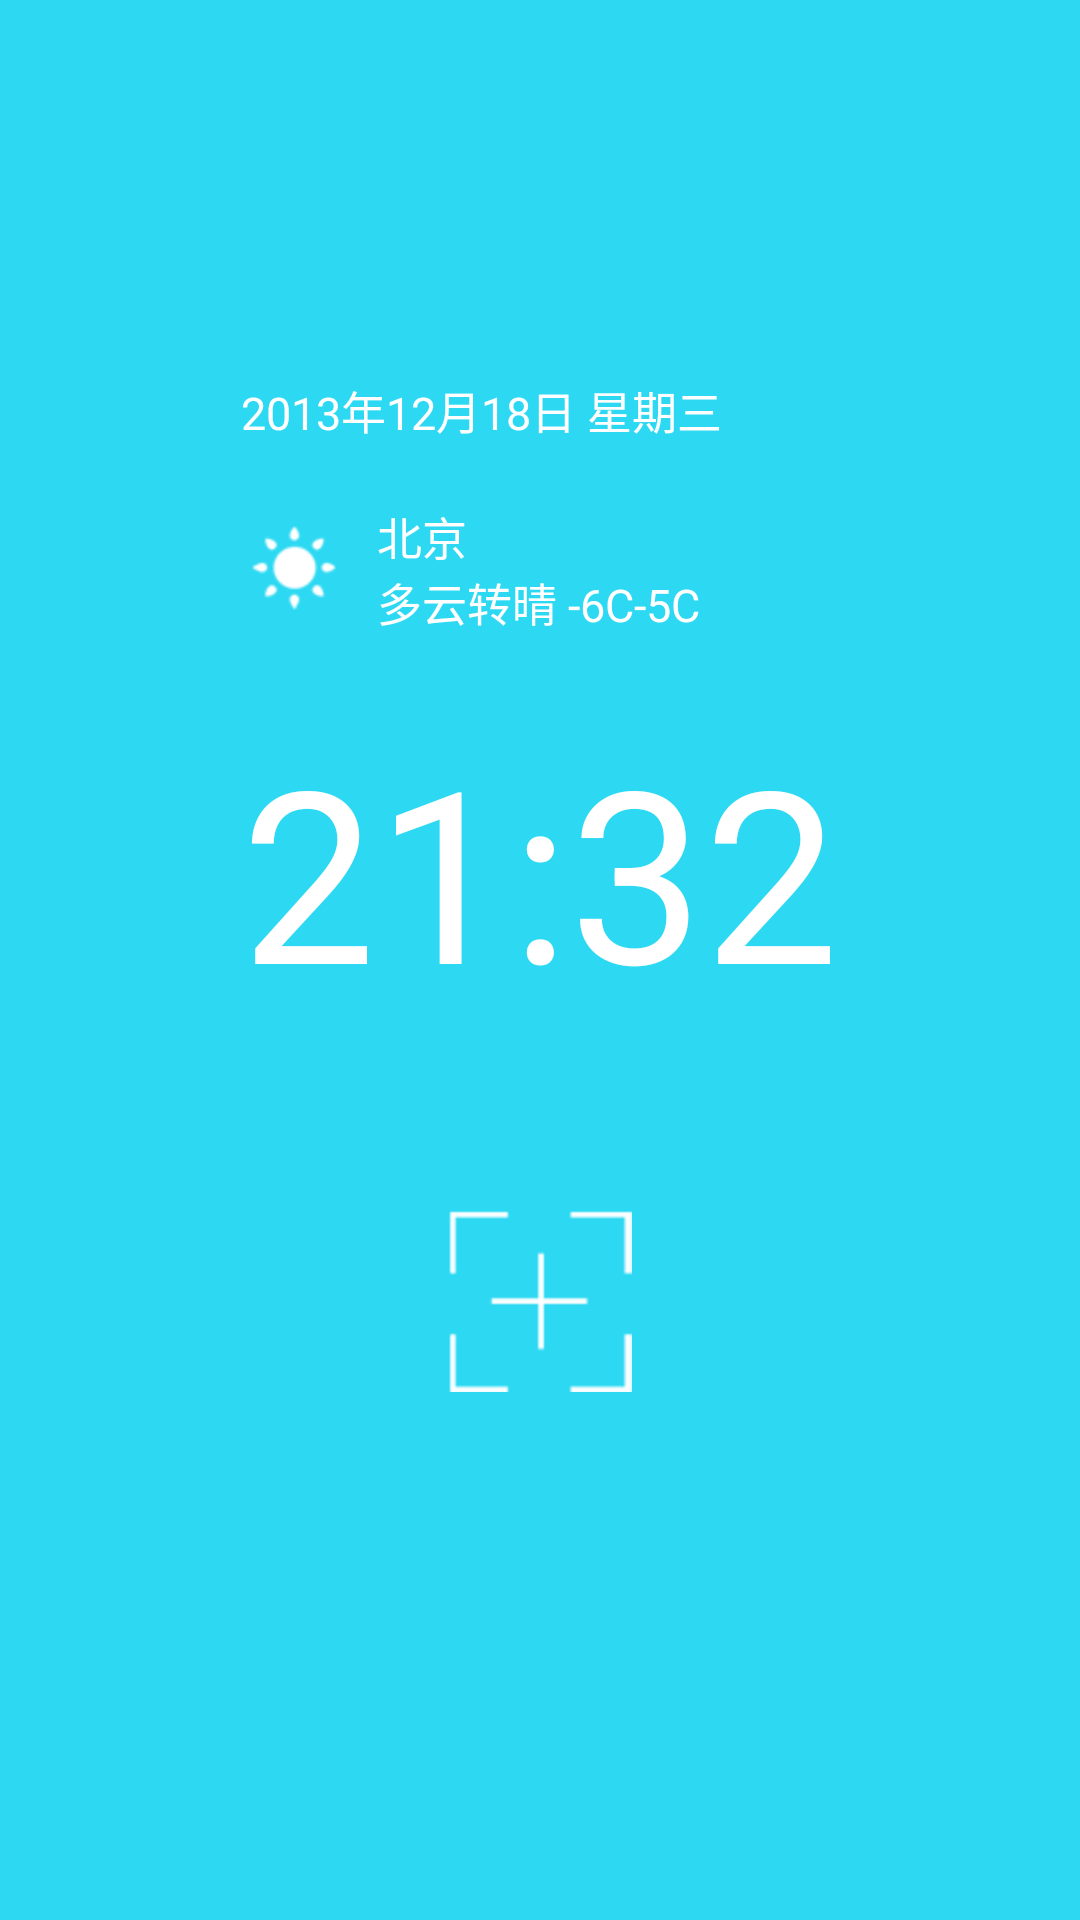

Where to tap for icons on this 1080*1920 app screen, as (x=x, y=y):
sunny: (x=294, y=568)
